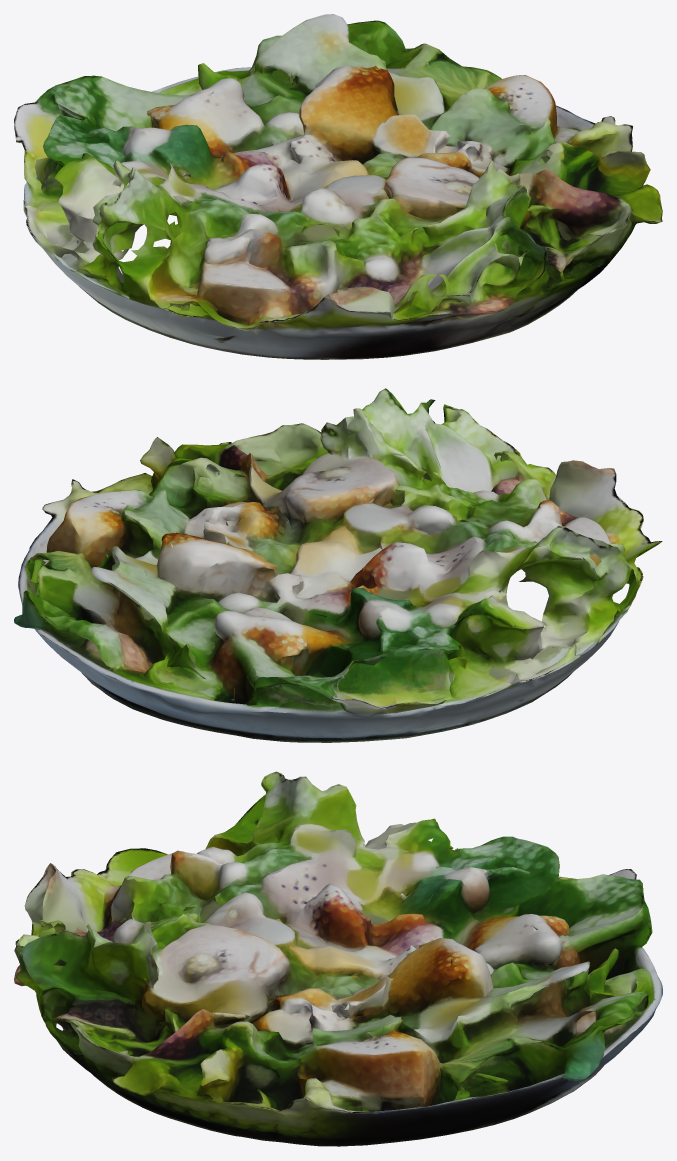
Rendered from caesar_salad.glb.
3 renders of one model, top to bottom at view 1: azimuth 30°, elevation 25°; view 2: azimuth 150°, elevation 25°; view 3: azimuth 270°, elevation 25°, orthographic. The views are drawn at different scales.
Parts seen in each view (by area): view 1: world_0; view 2: world_0; view 3: world_0.
Boxes of the visible parts, box(x1,y1,x2,y2) form: world_0: box(14, 14, 662, 359); world_0: box(14, 388, 662, 742); world_0: box(14, 771, 662, 1146).
Bounding box in the file's own units: 0.9973 × 0.2814 × 0.9957.
1 material, 1 textured.
